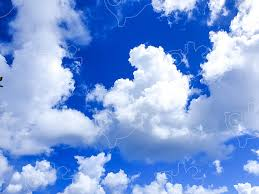sky: (1, 1, 258, 194)
